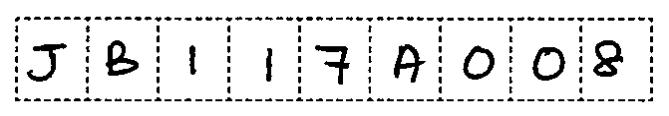0: (525, 40, 570, 85), (455, 41, 497, 86)
1: (174, 39, 210, 84), (253, 41, 286, 88)
7: (309, 37, 359, 90)
8: (587, 36, 626, 84)
A: (387, 39, 428, 87)
B: (102, 35, 146, 81)
J: (23, 40, 73, 87)
